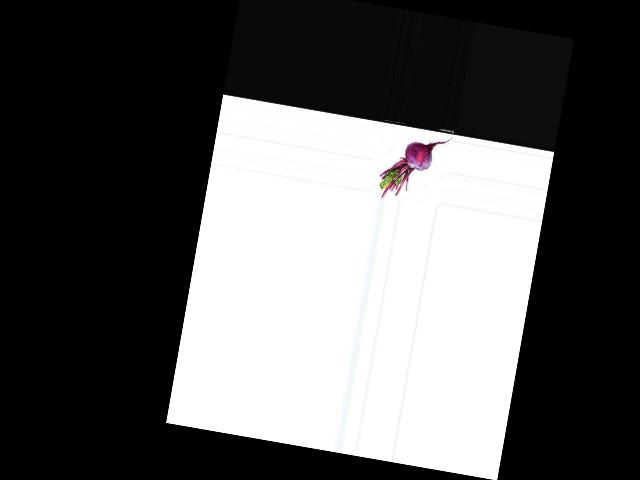beet: (375, 126, 451, 208)
